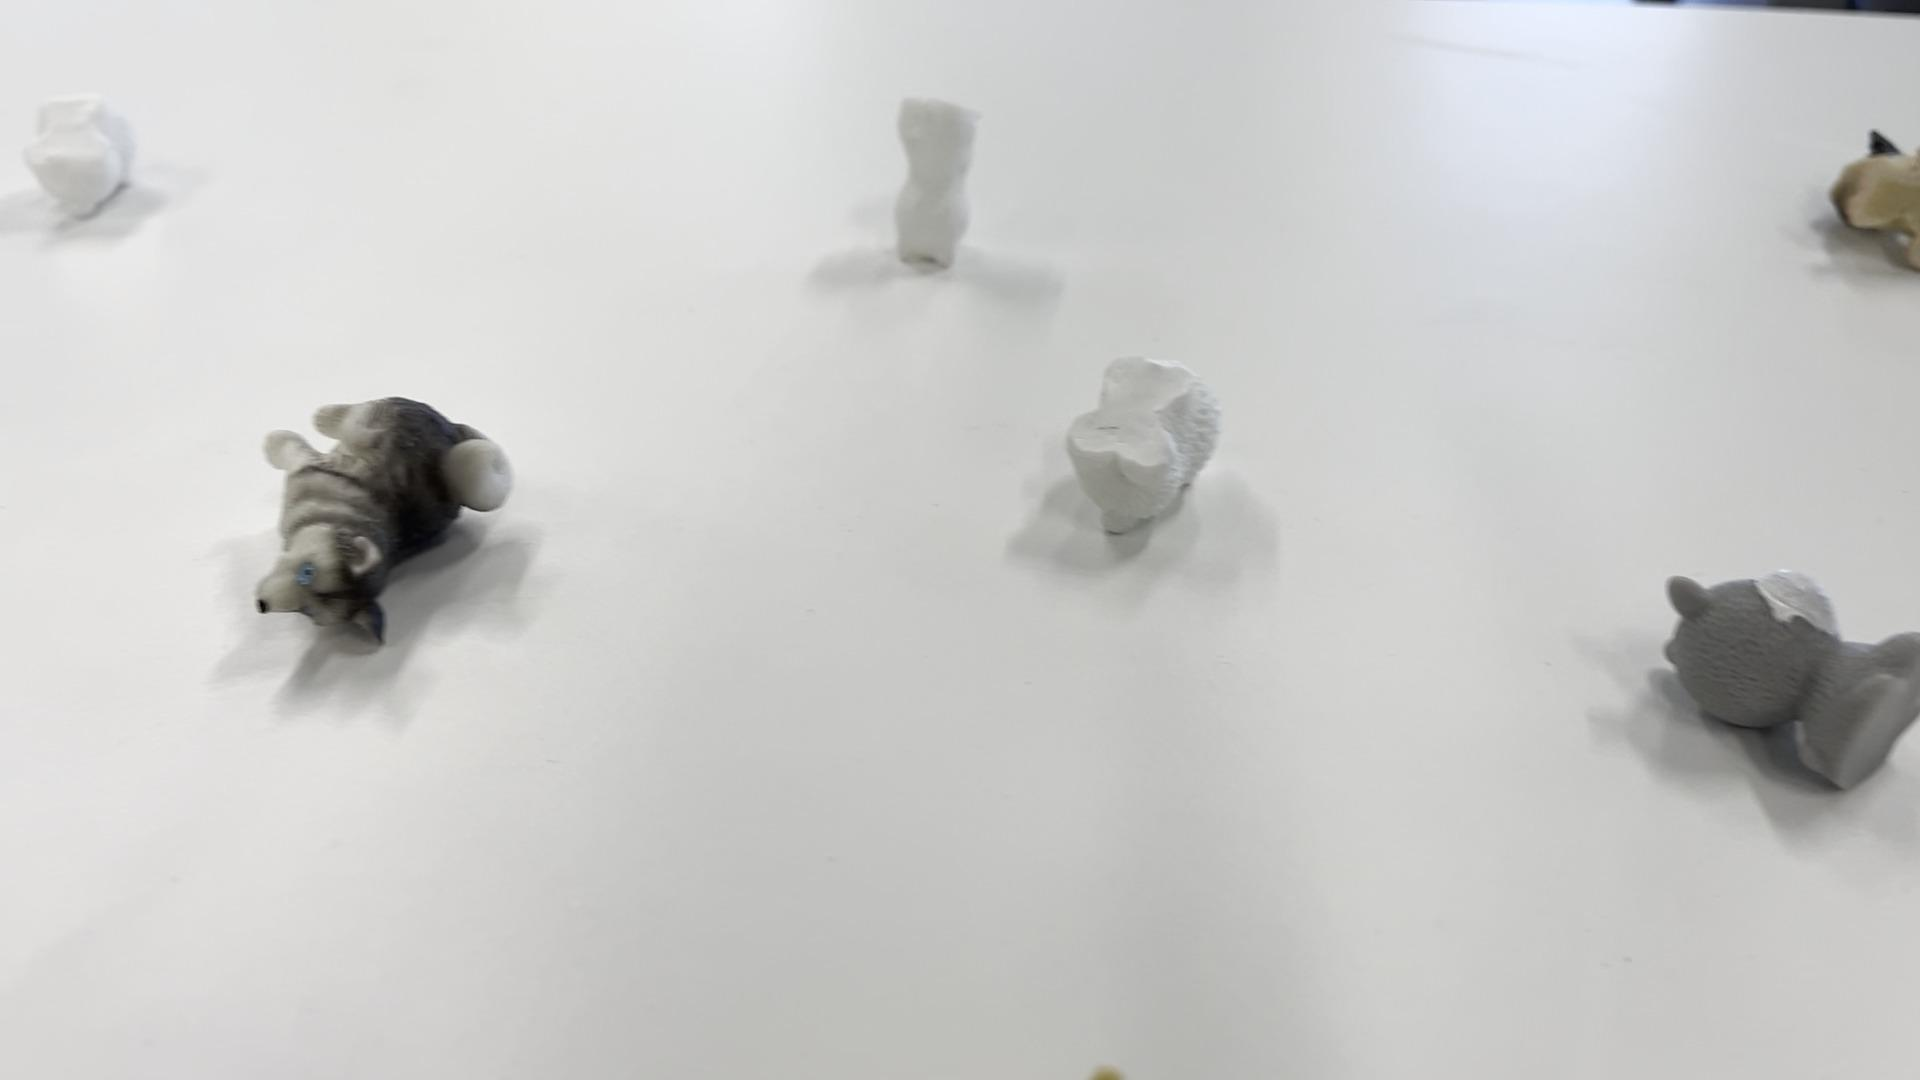pet: (241, 376, 530, 684), (1675, 555, 1920, 796), (1062, 343, 1218, 558), (878, 82, 1001, 299), (1821, 123, 1920, 311), (25, 88, 148, 224)
